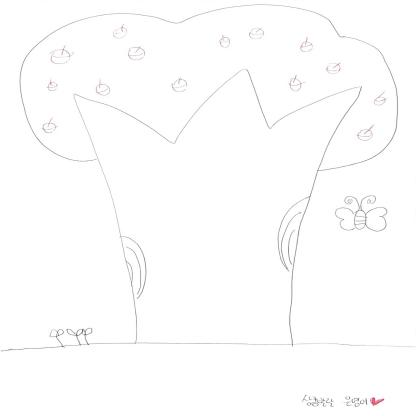apple: (44, 45, 75, 65), (37, 119, 62, 137), (92, 81, 114, 97), (129, 44, 150, 60), (110, 25, 132, 40), (358, 126, 376, 144), (171, 75, 190, 92), (324, 62, 345, 76), (288, 76, 306, 92), (43, 79, 62, 93), (215, 35, 233, 48), (299, 40, 315, 54), (247, 29, 266, 40), (374, 92, 388, 106)
branch_sharp: (67, 67, 360, 154)
crown_cloud: (10, 1, 402, 172)
knot: (268, 192, 313, 275), (112, 232, 152, 302)
root_none: (96, 324, 326, 378)
trunk_reflex: (103, 182, 316, 317)
